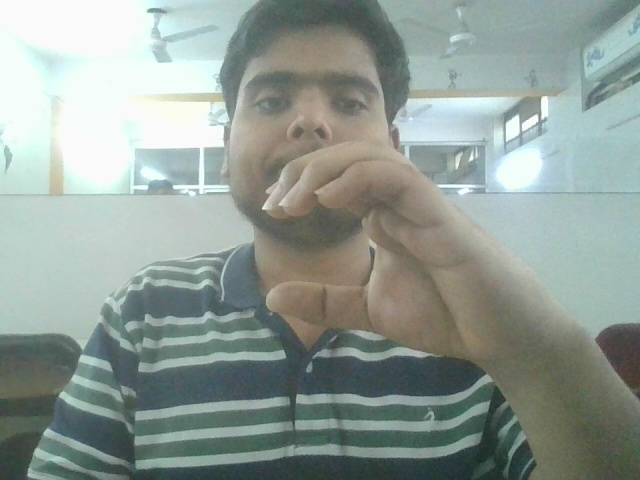No: (222, 131, 560, 384)
